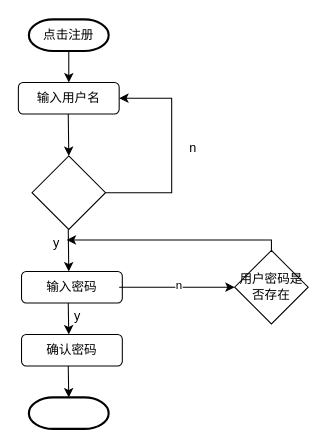
Some shapes in this 327 by 447 pixel diagram are drawn without their labels. The shapes that lost their labels are listed below. From the top down, each one's centre as x and y in pixels, then its label:
At point (68, 192): "用户是否存在".
At point (68, 412): "注册成功".
